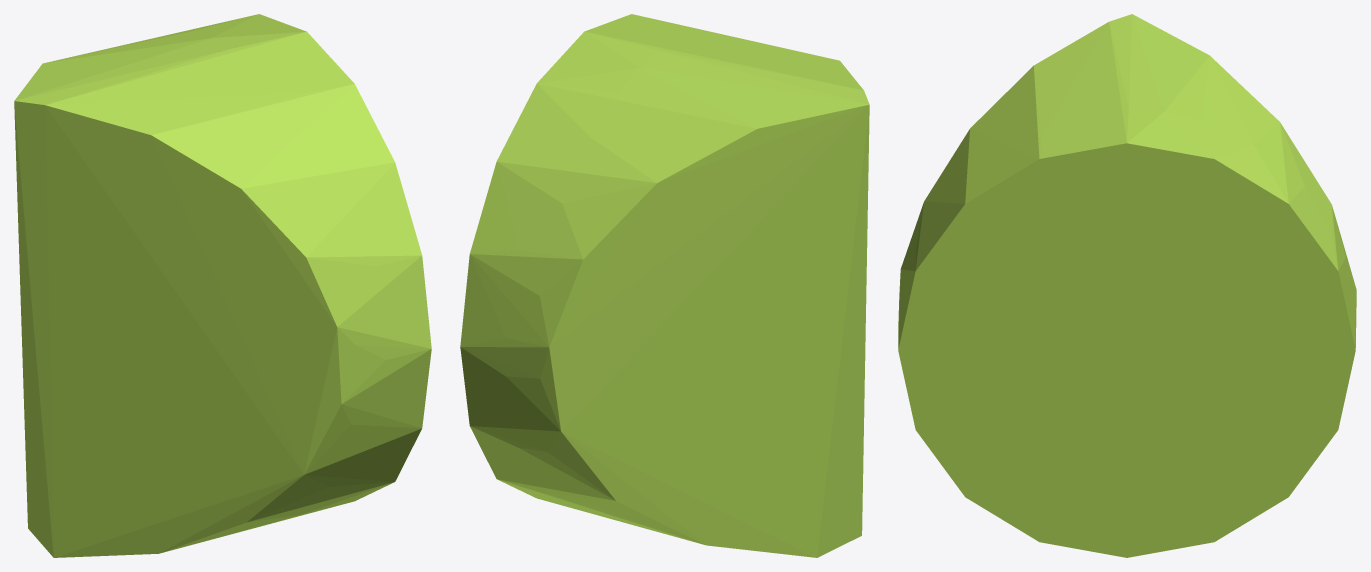
File: industrial_06397_link_4_respondable_respondable_respondable_respondable_respondable_respondable_coll_3.dae
3 renders of one model, left to right at view 1: azimuth 30°, elevation 25°; view 2: azimuth 150°, elevation 25°; view 3: azimuth 270°, elevation 25°, orthographic. The views are drawn at different scales.
Visible parts, largest first — view 1: node; view 2: node; view 3: node.
Part boxes in pixels (x1=…): node: x1=14, y1=14, x2=431, y2=557; node: x1=460, y1=14, x2=869, y2=557; node: x1=898, y1=14, x2=1356, y2=557.
Bounding box in the file's own units: 0.0504 × 0.0751 × 0.0752.
